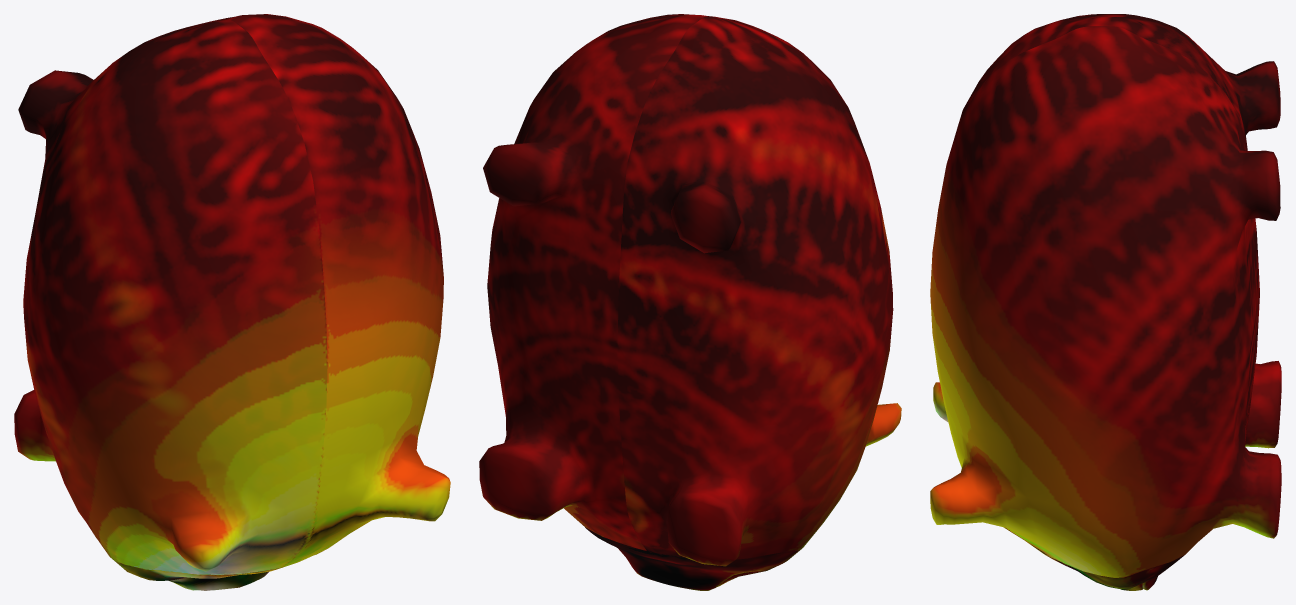
File: pigwalking1.gltf
3 views of the same model, side by side, from view 1: azimuth 30°, elevation 25°; view 2: azimuth 150°, elevation 25°; view 3: azimuth 270°, elevation 25° (orthographic). The views are drawn at different scales.
Parts seen in each view (by area): view 1: pig_Cube.004; view 2: pig_Cube.004; view 3: pig_Cube.004.
Boxes of the visible parts, left/top/right/bottom form: pig_Cube.004: left=14, top=14, right=450, bottom=590; pig_Cube.004: left=479, top=14, right=901, bottom=590; pig_Cube.004: left=930, top=14, right=1281, bottom=590.
Bounding box in the file's own units: 3.81 × 5.49 × 3.19.
1 material, 1 textured.
